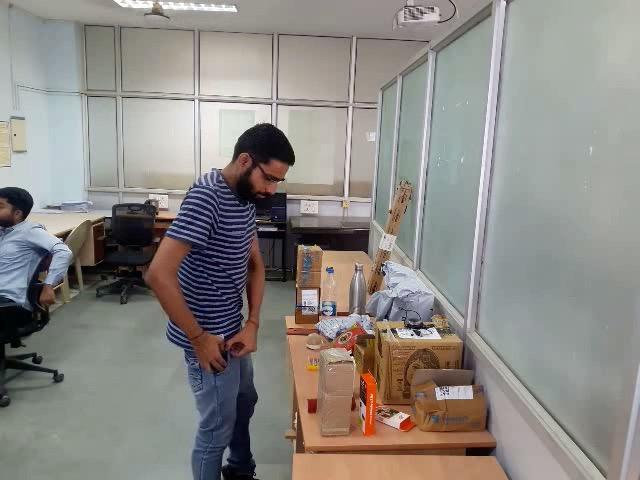shoplifting: (108, 295, 316, 404)
